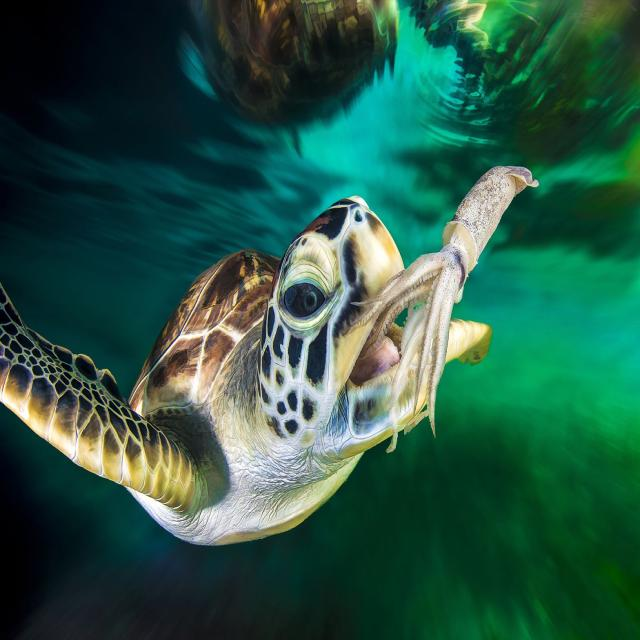turtle: (134, 156, 439, 543)
